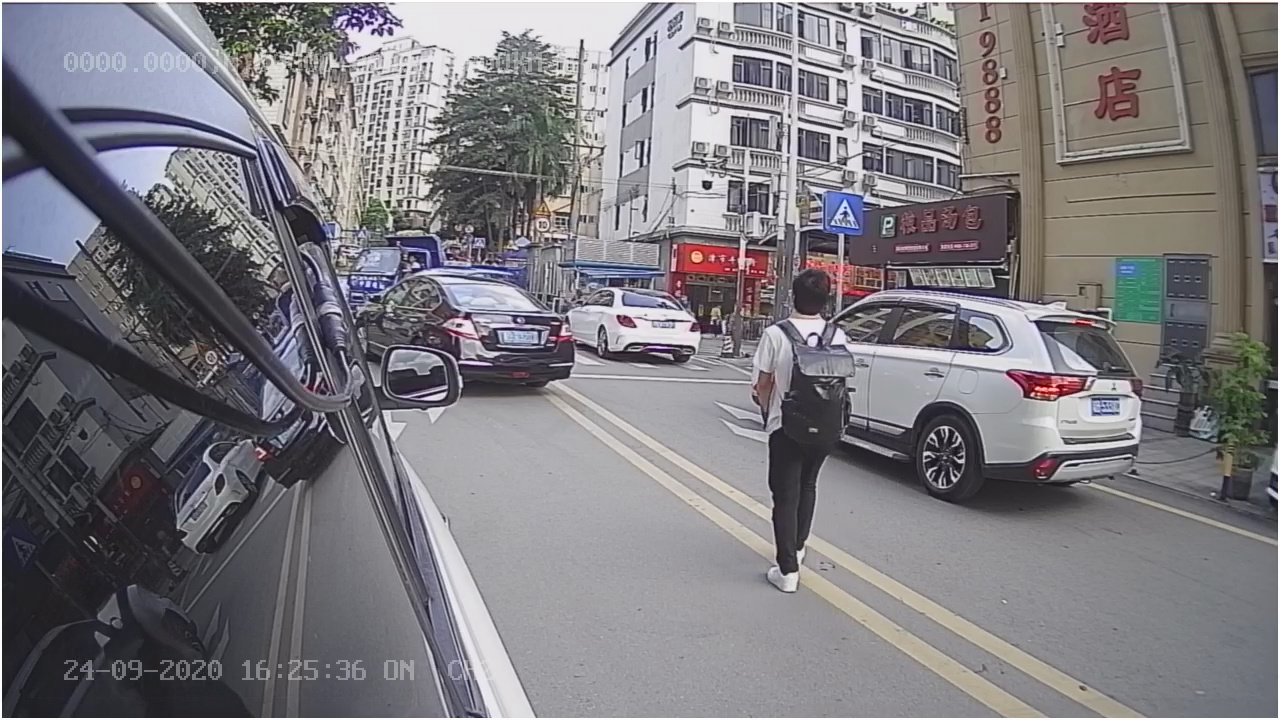person: (711, 261, 882, 620)
